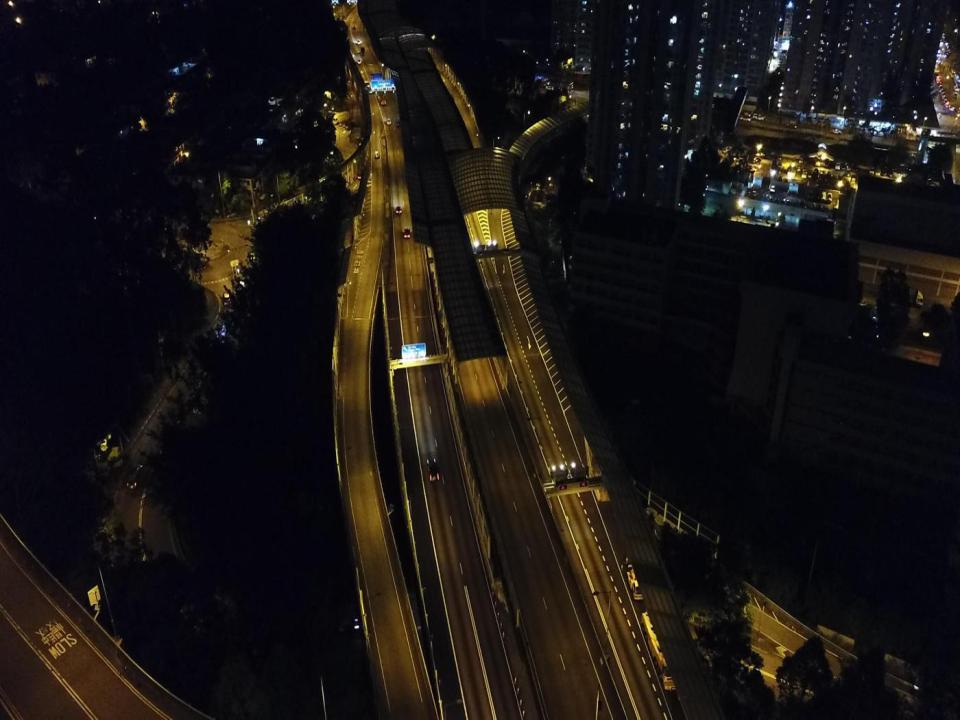car: (127, 463, 144, 490), (427, 457, 440, 482), (857, 300, 876, 310), (222, 291, 233, 306), (378, 92, 387, 105), (403, 228, 411, 238), (374, 149, 380, 159), (395, 206, 402, 214), (395, 119, 401, 127), (386, 117, 391, 125)
truck: (895, 287, 924, 309), (332, 110, 349, 125)
